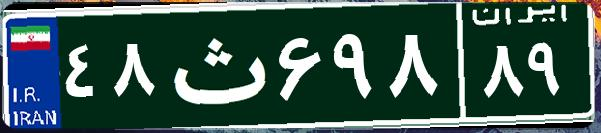4: (57, 26, 110, 107)
6: (273, 28, 330, 110)
8: (385, 28, 445, 110), (475, 38, 525, 113), (110, 28, 158, 105)
9: (330, 28, 385, 110), (525, 38, 570, 115)
ث: (158, 15, 273, 115)
